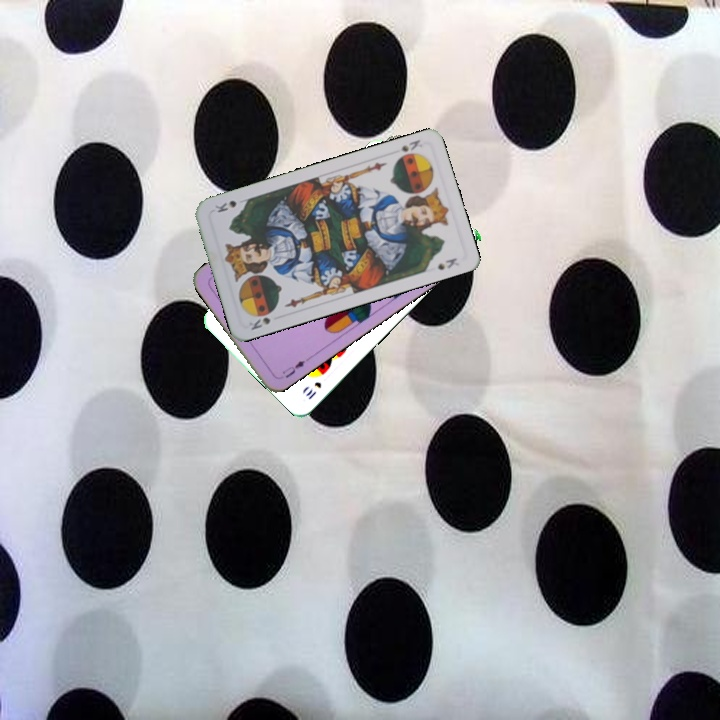EU: (278, 354, 312, 381)
S10: (301, 377, 324, 402)
SK: (396, 135, 427, 155), (245, 313, 273, 333)
